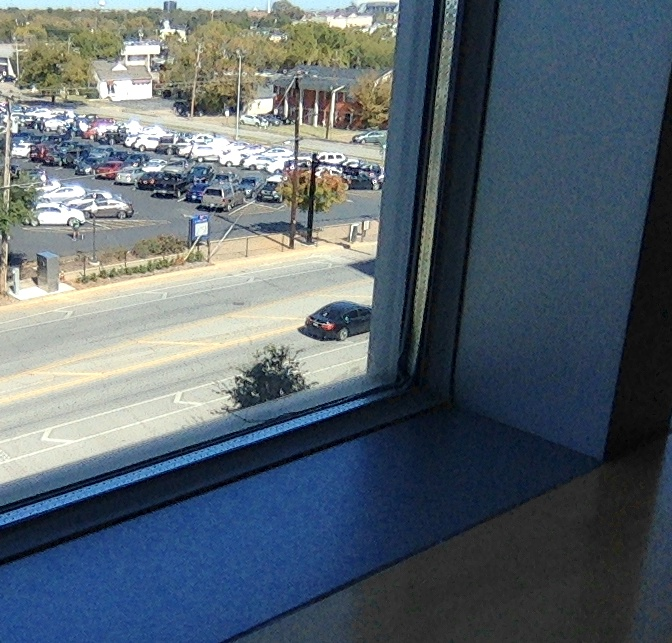car: (300, 300, 372, 343)
